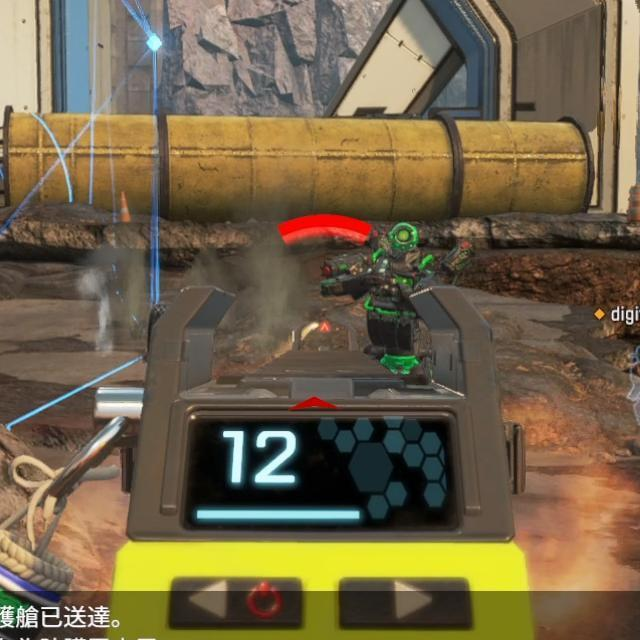avatar: (319, 218, 476, 377)
